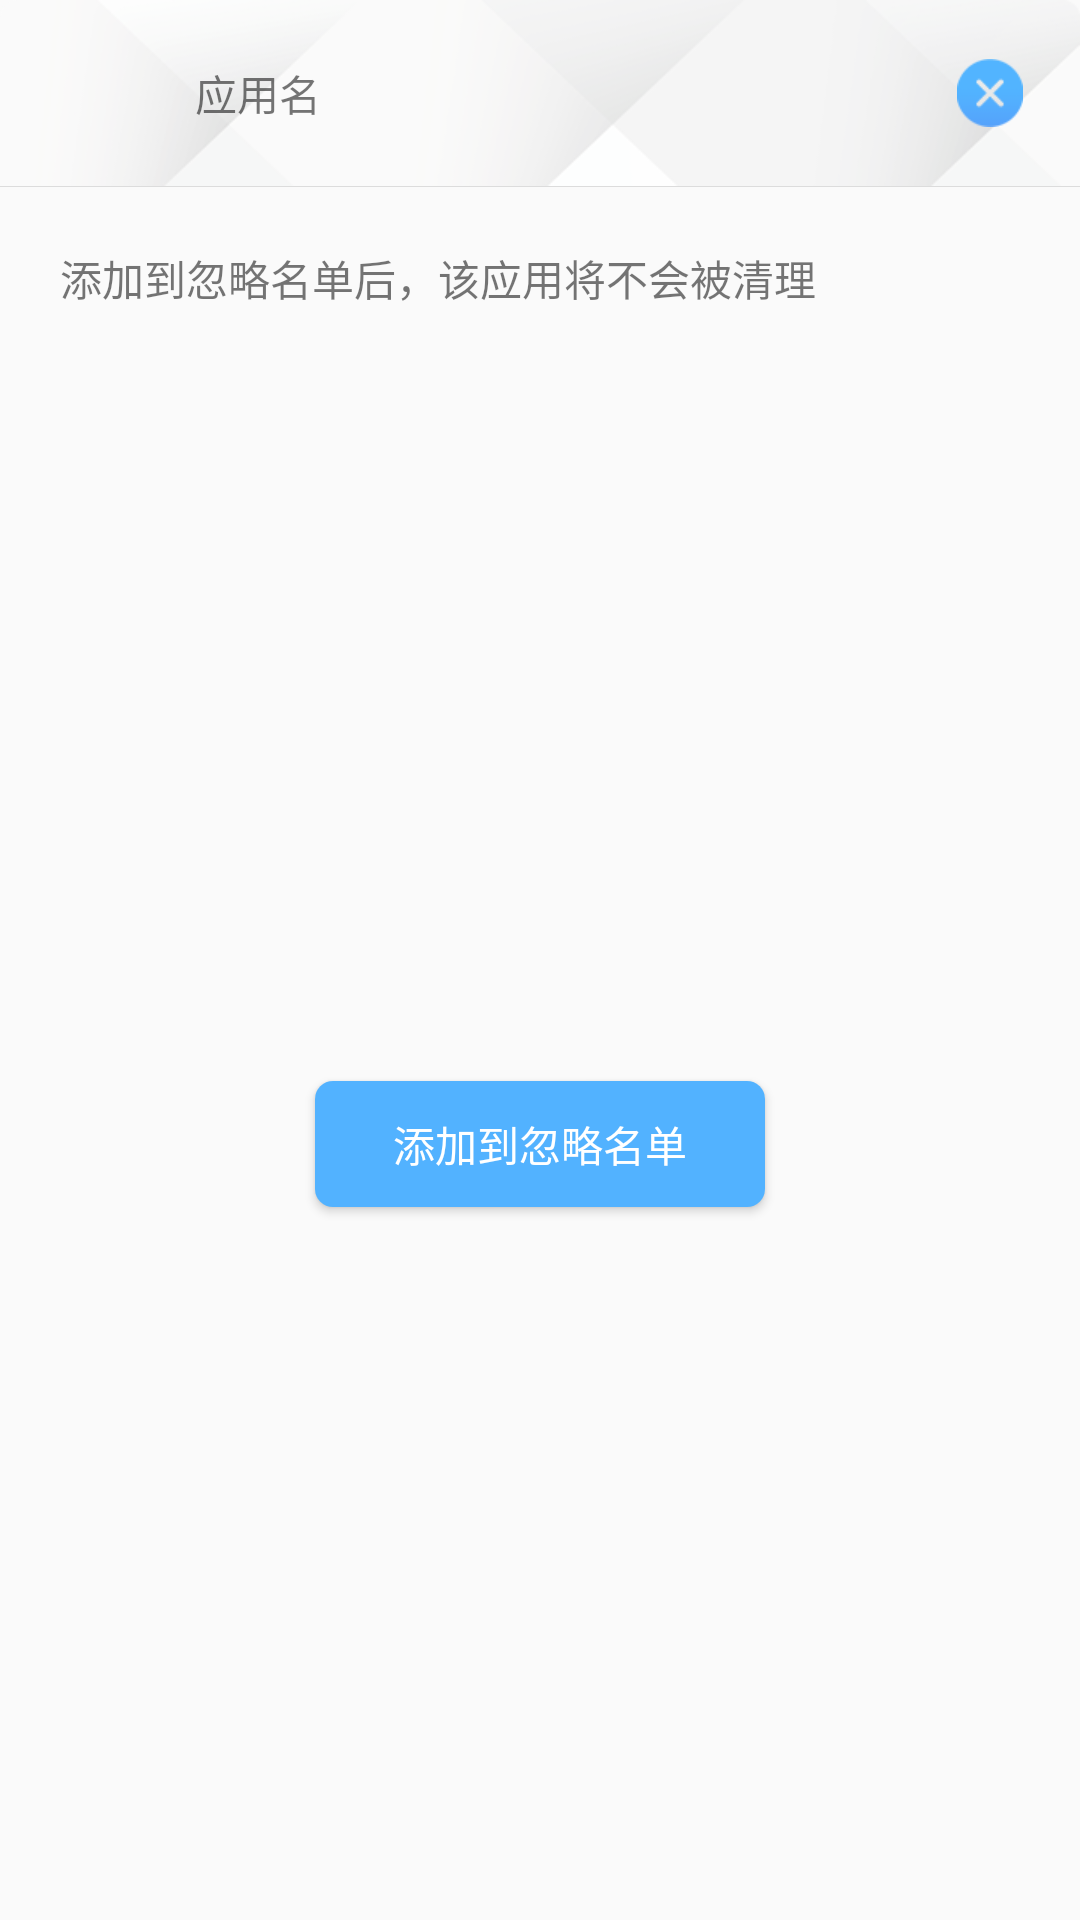

Screen size 1080w x 1920h. Icon name, then its box in pixels as [x1=x1, y1=y1, x2=x2, y2=y2]:
close: [x1=957, y1=59, x2=1023, y2=127]
